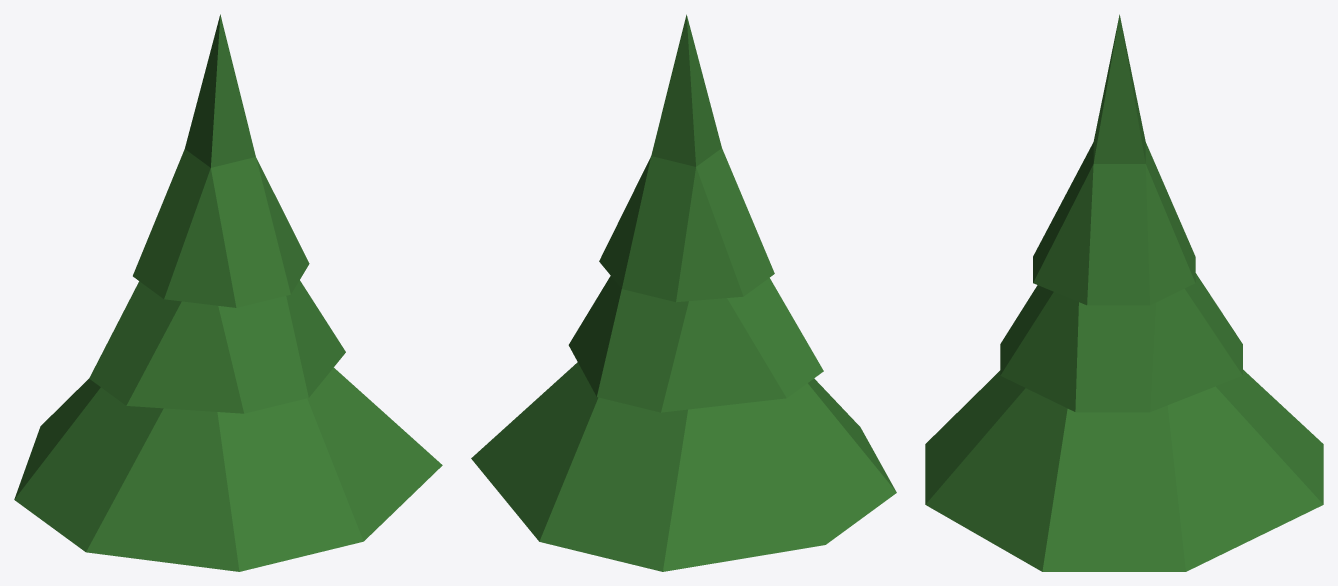
Rendered from spruce1.fbx.
The picture shows the model from 3 angles, left to right: view 1: azimuth 30°, elevation 25°; view 2: azimuth 150°, elevation 25°; view 3: azimuth 270°, elevation 25°; orthographic projection.
Parts seen in each view (by area): view 1: Spruce.000; view 2: Spruce.000; view 3: Spruce.000.
Part boxes in pixels (box(x1,y1,x2,y2)): Spruce.000: box(14, 14, 442, 571); Spruce.000: box(471, 14, 896, 571); Spruce.000: box(925, 14, 1323, 571).
Size of the model in its own units: 102 by 149 by 106.
